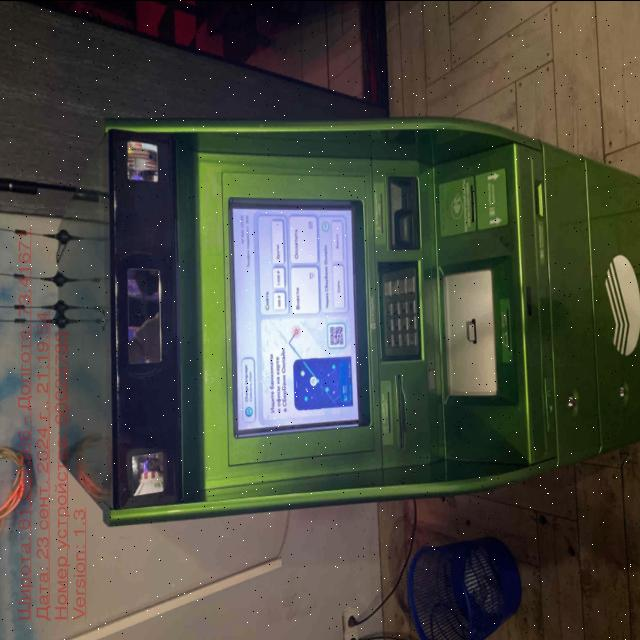bank: (55, 113, 640, 522)
